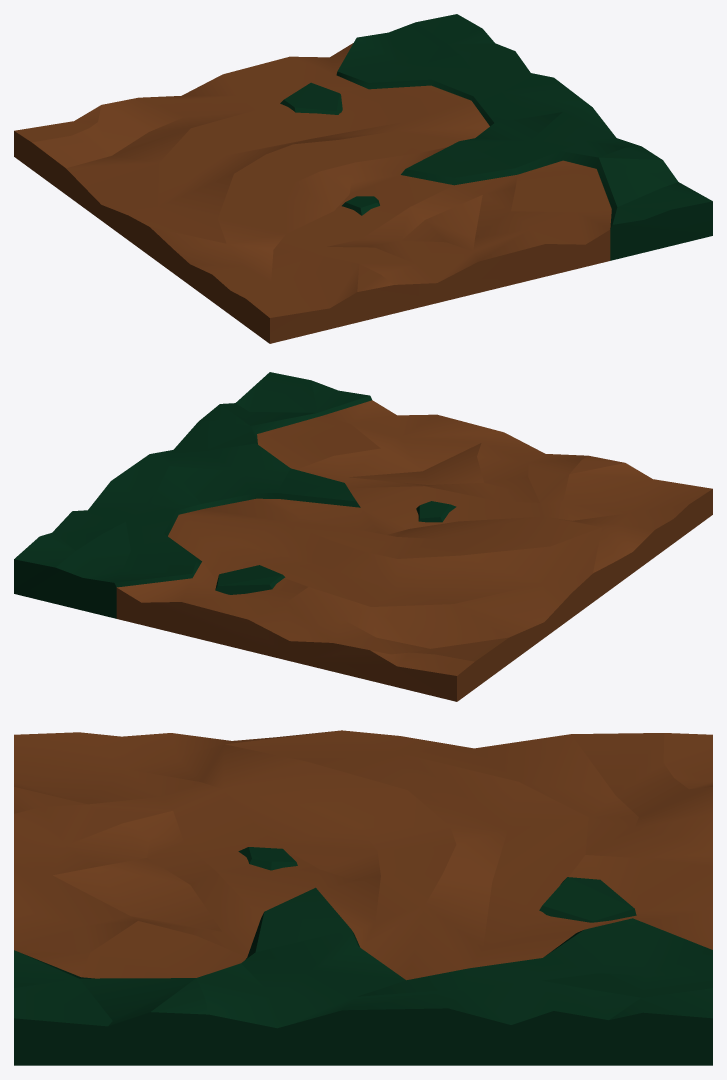
The model's file is Ground_Edge_R_1.fbx.
3 views of the same model, one above another, from view 1: azimuth 30°, elevation 25°; view 2: azimuth 150°, elevation 25°; view 3: azimuth 270°, elevation 25° (orthographic). The views are drawn at different scales.
Visible parts, largest first — view 1: Ground_Edge_R_1; view 2: Ground_Edge_R_1; view 3: Ground_Edge_R_1.
Boxes of the visible parts, <box> form: Ground_Edge_R_1: <box>14,14,712,343</box>; Ground_Edge_R_1: <box>14,372,712,701</box>; Ground_Edge_R_1: <box>14,730,712,1065</box>.
Size of the model in its own units: 147 by 13.25 by 147.
